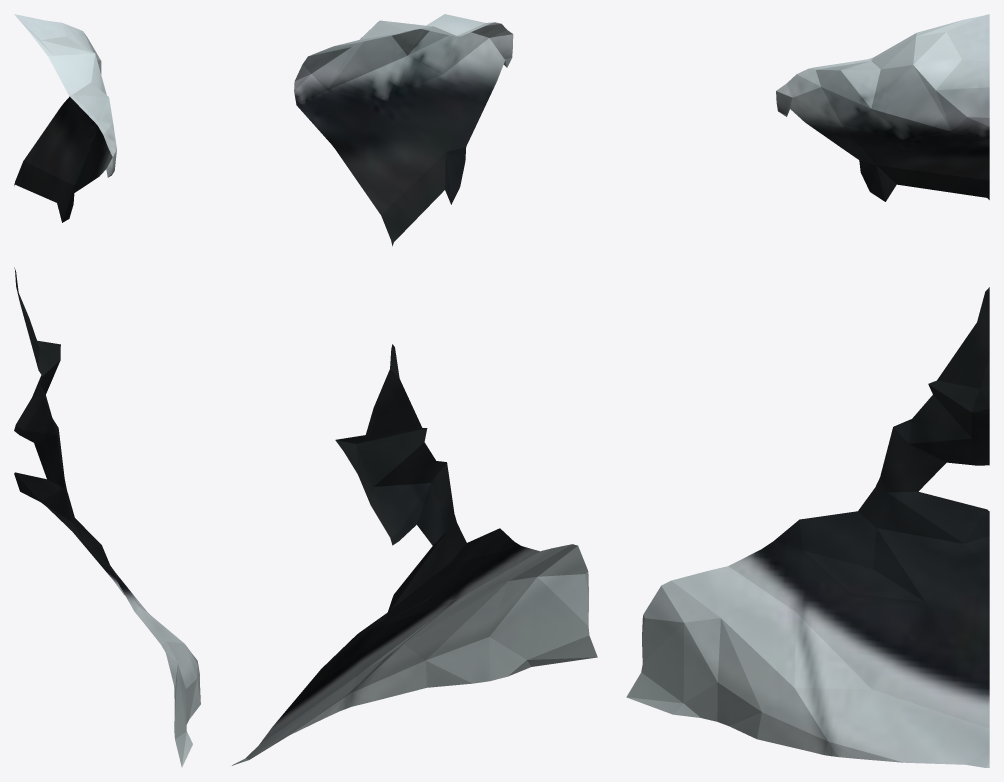
The picture shows the model from 3 angles, left to right: view 1: azimuth 30°, elevation 25°; view 2: azimuth 150°, elevation 25°; view 3: azimuth 270°, elevation 25°; orthographic projection. The views are drawn at different scales.
Bounding box in the file's own units: 0.0941 × 0.4244 × 0.2047.
1 material, 1 textured.
